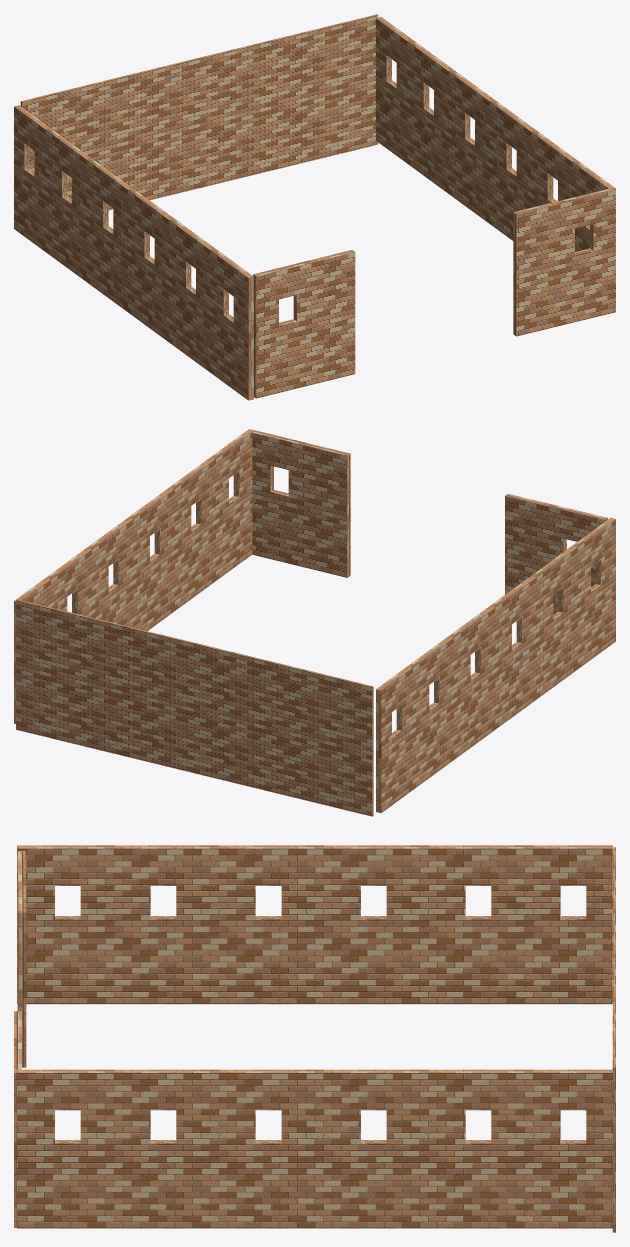
Rendered from Paredes.fbx.
3 renders of one model, top to bottom at view 1: azimuth 30°, elevation 25°; view 2: azimuth 150°, elevation 25°; view 3: azimuth 270°, elevation 25°, orthographic. The views are drawn at different scales.
Parts seen in each view (by area): view 1: ParedTrasera, ParedIzq, ParedDerecha, EntradaDer, EntradaIzq; view 2: ParedTrasera, ParedIzq, ParedDerecha, EntradaDer, EntradaIzq; view 3: ParedDerecha, ParedIzq, EntradaIzq, ParedTrasera, EntradaDer.
Boxes of the visible parts, <box> form: ParedTrasera: <box>20,14,378,210</box>; ParedIzq: <box>14,105,253,400</box>; ParedDerecha: <box>376,17,615,251</box>; EntradaDer: <box>513,189,615,336</box>; EntradaIzq: <box>253,250,355,398</box>; ParedTrasera: <box>16,599,373,816</box>; ParedIzq: <box>376,517,615,813</box>; ParedDerecha: <box>14,429,253,723</box>; EntradaDer: <box>250,429,350,577</box>; EntradaIzq: <box>505,494,607,614</box>; ParedDerecha: <box>17,1069,612,1228</box>; ParedIzq: <box>17,845,612,1004</box>; EntradaIzq: <box>17,851,26,1067</box>; ParedTrasera: <box>612,847,615,1232</box>; EntradaDer: <box>14,1011,21,1227</box>.
Size of the model in its own units: 51.42 by 17.31 by 57.45.
Materials: 1 (1 with a texture image).
